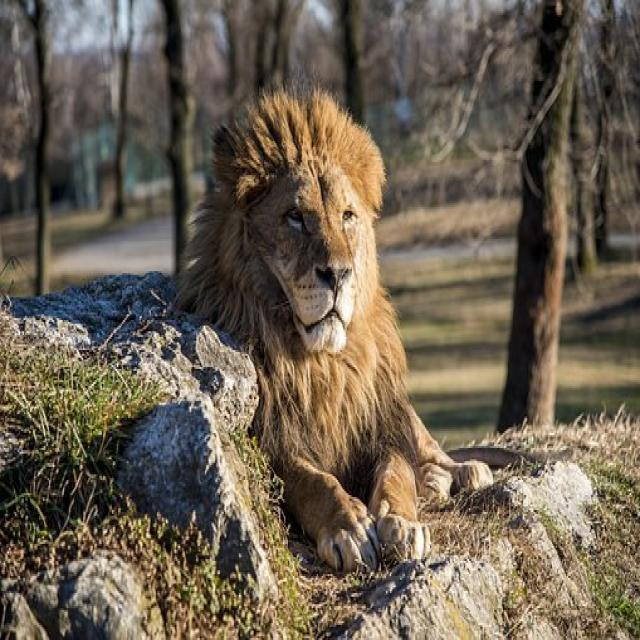Lion: (187, 92, 498, 566)
